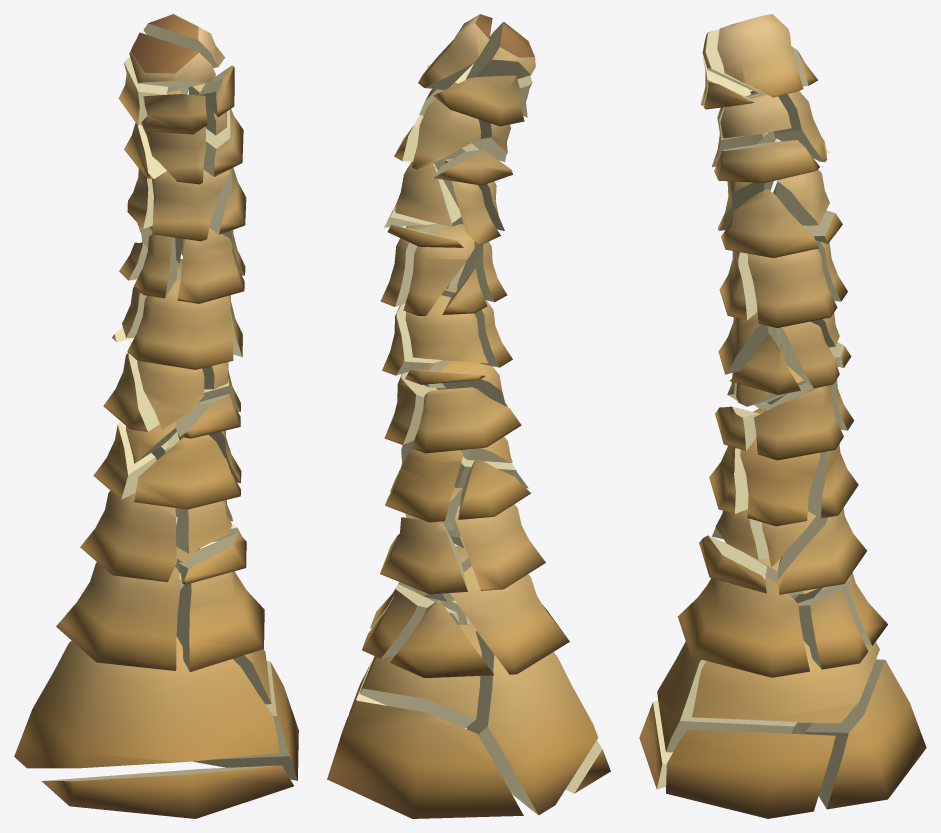
File: FX_PalmShattered_01.fbx
3 views of the same model, side by side, from view 1: azimuth 30°, elevation 25°; view 2: azimuth 150°, elevation 25°; view 3: azimuth 270°, elevation 25° (orthographic). The views are drawn at different scales.
Parts seen in each view (by area): view 1: M_Palm_01.002_cell.004, M_Palm_01.004_cell, M_Palm_01.002_cell.002, M_Palm_01.004_cell.001, M_Palm_01.008_cell.003, M_Palm_01.005_cell.003, M_Palm_01.006_cell, M_Palm_01.010_cell.004, M_Palm_01.009_cell.003, M_Palm_01_cell.004, M_Palm_01.007_cell.002, M_Palm_01.002_cell.001 (+22 smaller); view 2: M_Palm_01.002_cell, M_Palm_01.002_cell.004, M_Palm_01.004_cell, M_Palm_01.002_cell.003, M_Palm_01.007_cell.004, M_Palm_01.005_cell.004, M_Palm_01.005_cell.003, M_Palm_01.004_cell.003, M_Palm_01.006_cell.004, M_Palm_01.008_cell.001, M_Palm_01.009_cell.004, M_Palm_01_cell.003 (+25 smaller); view 3: M_Palm_01.002_cell.001, M_Palm_01.002_cell, M_Palm_01.004_cell.001, M_Palm_01.002_cell.003, M_Palm_01.009_cell.002, M_Palm_01_cell.002, M_Palm_01.005_cell.004, M_Palm_01.007_cell.003, M_Palm_01.006_cell.001, M_Palm_01.002_cell.004, M_Palm_01.010_cell.001, M_Palm_01.004_cell.004 (+25 smaller).
Boxes of the visible parts, bbox=[...] form: M_Palm_01.002_cell.004: bbox=[14, 636, 278, 768]; M_Palm_01.004_cell: bbox=[56, 562, 179, 670]; M_Palm_01.002_cell.002: bbox=[41, 765, 293, 818]; M_Palm_01.004_cell.001: bbox=[176, 571, 264, 671]; M_Palm_01.008_cell.003: bbox=[127, 278, 233, 369]; M_Palm_01.005_cell.003: bbox=[80, 490, 176, 582]; M_Palm_01.006_cell: bbox=[134, 434, 240, 509]; M_Palm_01.010_cell.004: bbox=[152, 170, 229, 241]; M_Palm_01.009_cell.003: bbox=[177, 228, 244, 303]; M_Palm_01_cell.004: bbox=[129, 32, 215, 88]; M_Palm_01.007_cell.002: bbox=[137, 360, 204, 429]; M_Palm_01.002_cell.001: bbox=[193, 661, 298, 780]; M_Palm_01.002_cell: bbox=[327, 701, 523, 818]; M_Palm_01.002_cell.004: bbox=[466, 631, 598, 815]; M_Palm_01.004_cell: bbox=[450, 566, 569, 674]; M_Palm_01.002_cell.003: bbox=[359, 623, 481, 728]; M_Palm_01.007_cell.004: bbox=[411, 387, 521, 453]; M_Palm_01.005_cell.004: bbox=[380, 517, 467, 594]; M_Palm_01.005_cell.003: bbox=[454, 504, 545, 590]; M_Palm_01.004_cell.003: bbox=[390, 600, 493, 677]; M_Palm_01.006_cell.004: bbox=[385, 449, 463, 522]; M_Palm_01.008_cell.001: bbox=[405, 295, 487, 363]; M_Palm_01.009_cell.004: bbox=[403, 224, 474, 315]; M_Palm_01_cell.003: bbox=[433, 75, 524, 126]; M_Palm_01.002_cell.001: bbox=[666, 729, 835, 818]; M_Palm_01.002_cell: bbox=[804, 659, 926, 809]; M_Palm_01.004_cell.001: bbox=[677, 577, 809, 677]; M_Palm_01.002_cell.003: bbox=[692, 641, 879, 723]; M_Palm_01.009_cell.002: bbox=[747, 248, 837, 327]; M_Palm_01_cell.002: bbox=[717, 14, 803, 97]; M_Palm_01.005_cell.004: bbox=[777, 508, 866, 594]; M_Palm_01.007_cell.003: bbox=[754, 385, 843, 460]; M_Palm_01.006_cell.001: bbox=[740, 437, 820, 526]; M_Palm_01.002_cell.004: bbox=[657, 641, 812, 752]; M_Palm_01.010_cell.001: bbox=[721, 189, 818, 257]; M_Palm_01.004_cell.004: bbox=[798, 588, 868, 669].
Size of the model in its own units: 182 by 521 by 183.
